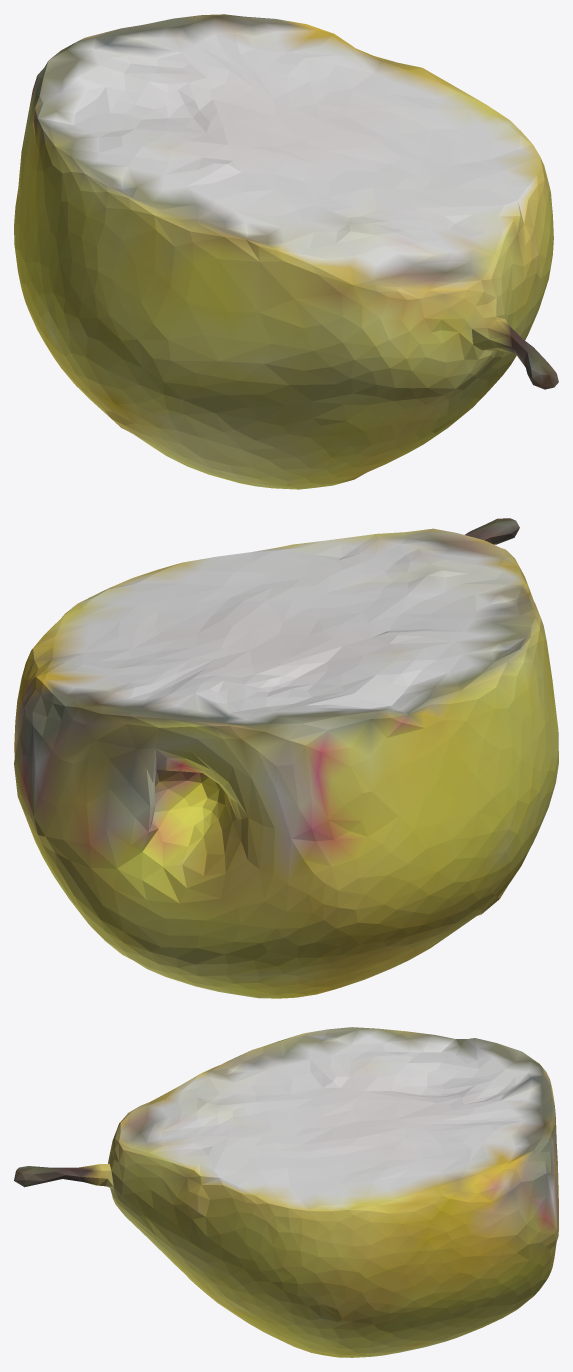
The model's file is scan.obj.
3 views of the same model, one above another, from view 1: azimuth 30°, elevation 25°; view 2: azimuth 150°, elevation 25°; view 3: azimuth 270°, elevation 25° (orthographic). The views are drawn at different scales.
Visible parts, largest first — view 1: scan.ply; view 2: scan.ply; view 3: scan.ply.
Part boxes in pixels (x1,y1,x2,y2): scan.ply: (14,14,558,489); scan.ply: (14,518,558,998); scan.ply: (14,1027,558,1357).
Bounding box in the file's own units: 0.0761 × 0.0557 × 0.1096.
